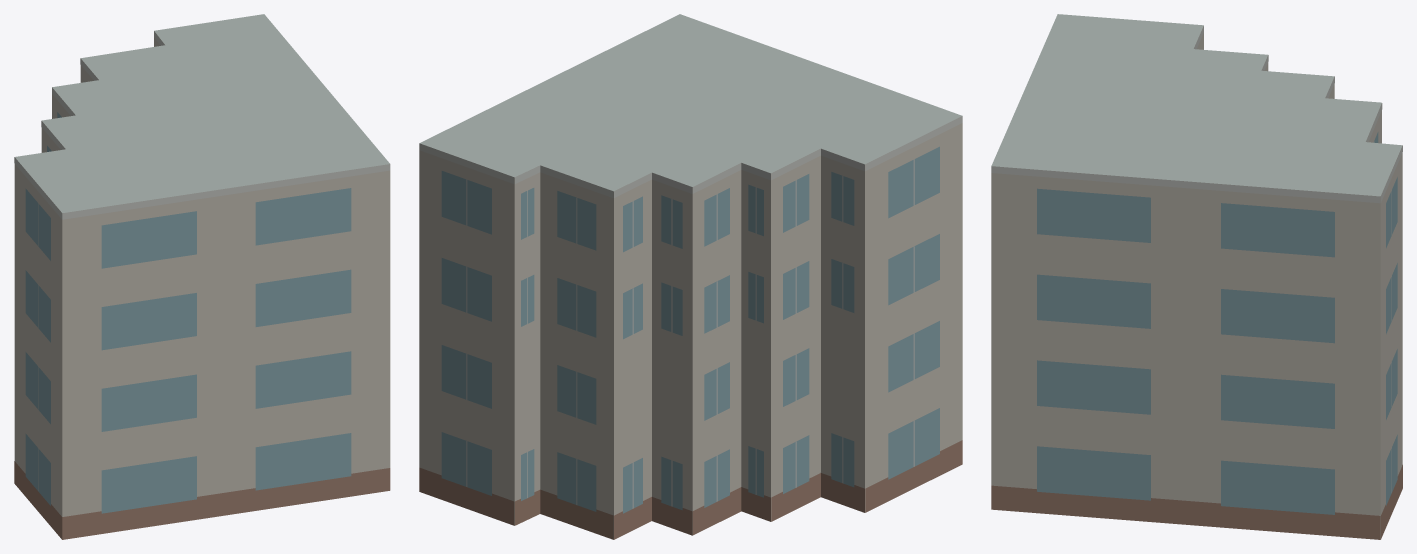
File: survey-upis-32580020.glb
The picture shows the model from 3 angles, left to right: view 1: azimuth 30°, elevation 25°; view 2: azimuth 150°, elevation 25°; view 3: azimuth 270°, elevation 25°; orthographic projection. The views are drawn at different scales.
Visible parts, largest first — view 1: survey-upis-32580020.tmp; view 2: survey-upis-32580020.tmp; view 3: survey-upis-32580020.tmp.
Boxes of the visible parts, bbox=[...] form: survey-upis-32580020.tmp: bbox=[14, 14, 390, 539]; survey-upis-32580020.tmp: bbox=[419, 14, 962, 539]; survey-upis-32580020.tmp: bbox=[991, 14, 1402, 539].
Bounding box in the file's own units: 13.91 × 12.2 × 13.25.
